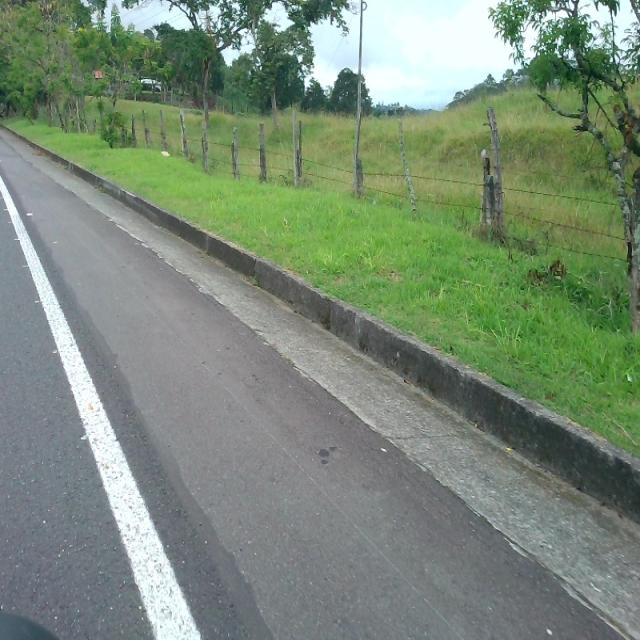DITCH: (1, 124, 638, 638)
